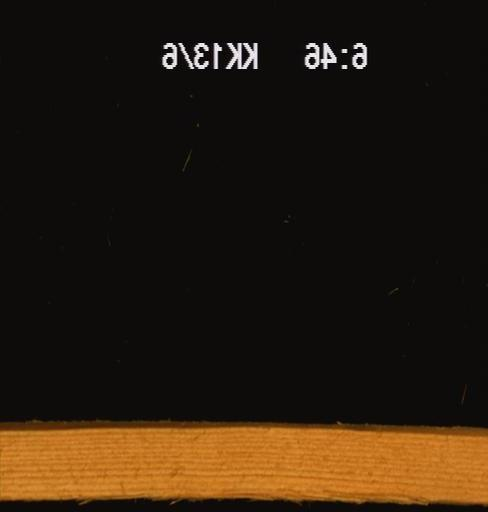wave: (75, 483, 486, 504)
